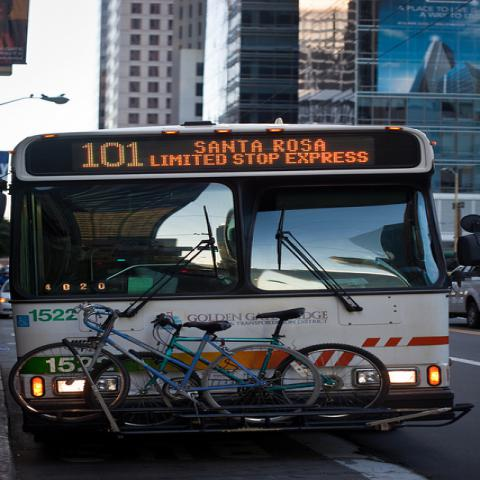bus: (10, 123, 472, 439)
